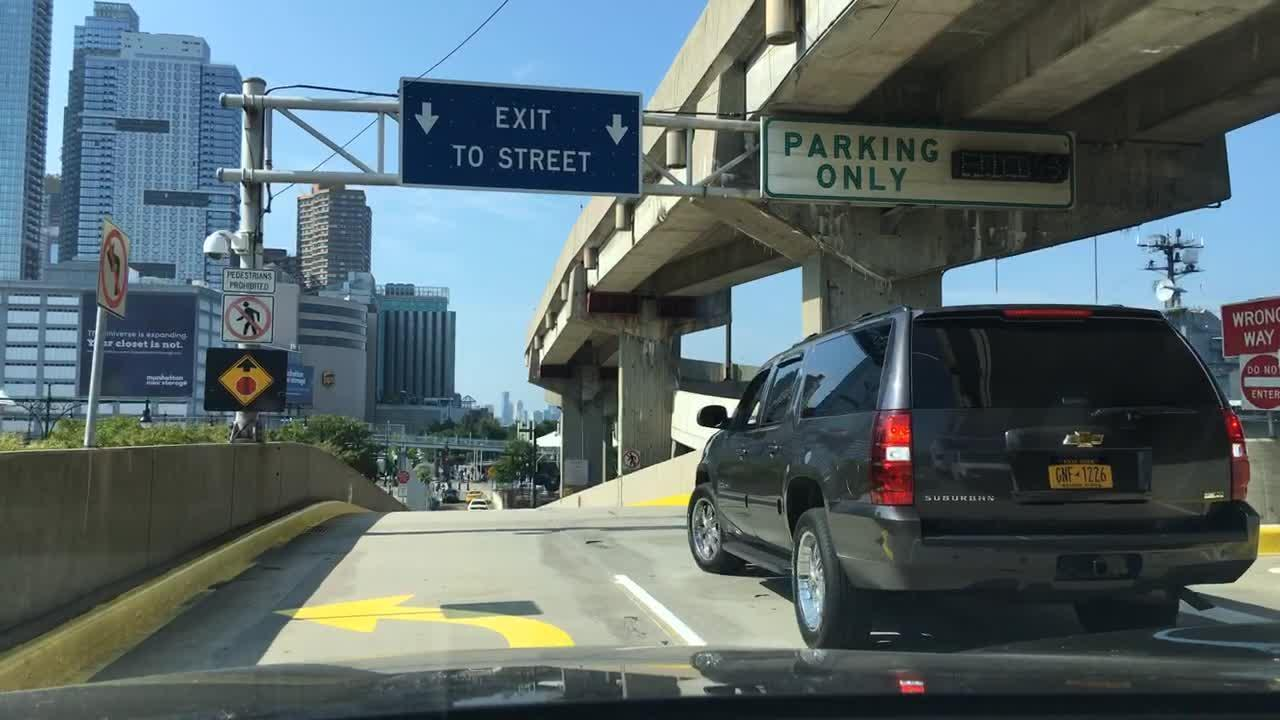chevrolet: (1053, 425, 1112, 455)
